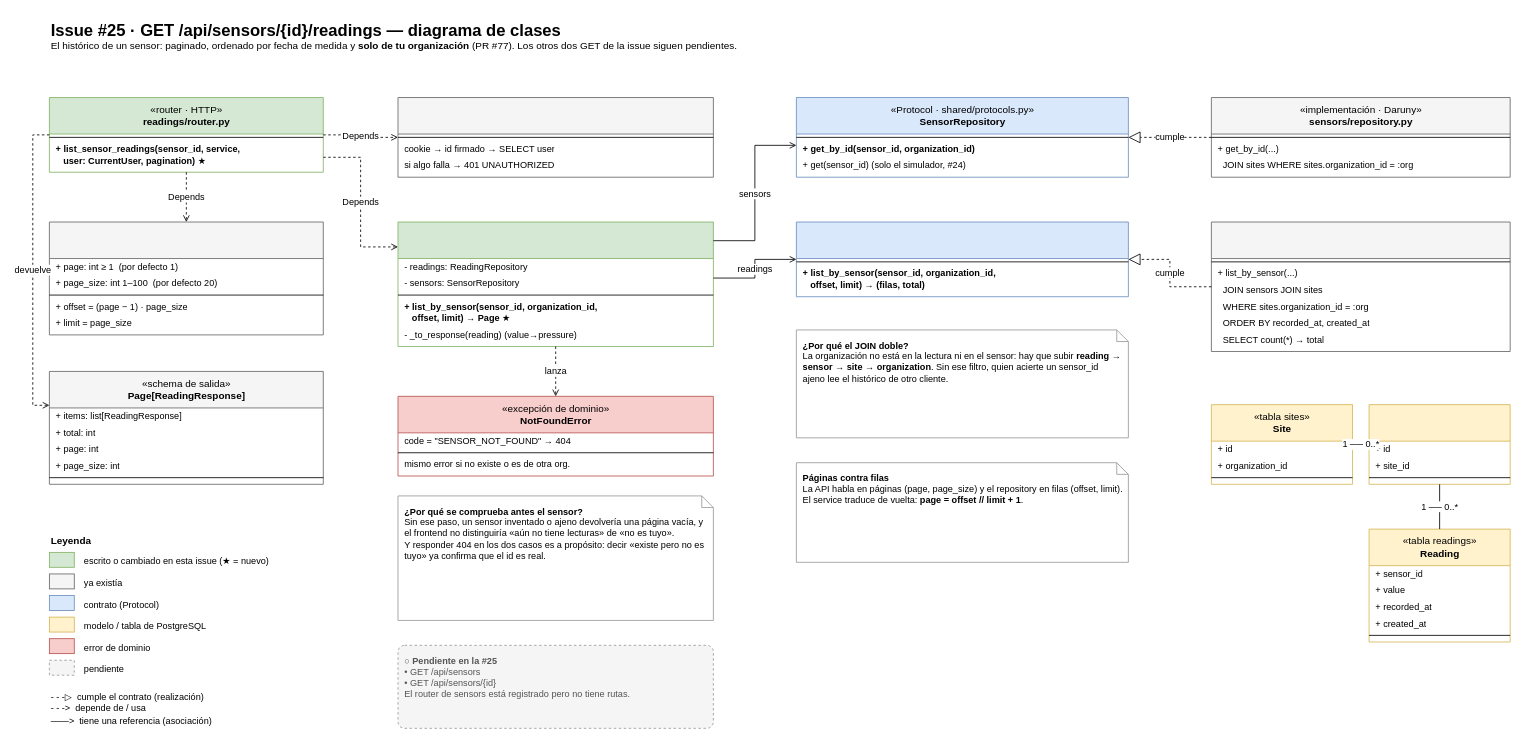
The diagram is 1532 pixels wide and 749 high, and some of its shapes have lost their labels. Here are the shapes that lost their labels. From the top down, the box of each, then its label:
(397, 97, 713, 177): «dependency · #26» get_current_user(request, db) → User
(49, 221, 323, 335): «dependency · shared/dependencies.py» PaginationParams
(796, 221, 1128, 297): «Protocol · shared/protocols.py» ReadingRepository
(397, 221, 713, 347): «service · reglas de negocio» ReadingService
(1211, 221, 1510, 352): «implementación · Daruny» readings/repository.py
(1368, 404, 1510, 484): «tabla sensors» Sensor
